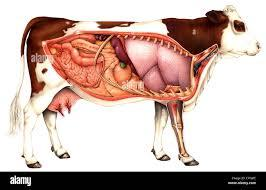cow: (10, 5, 260, 168)
